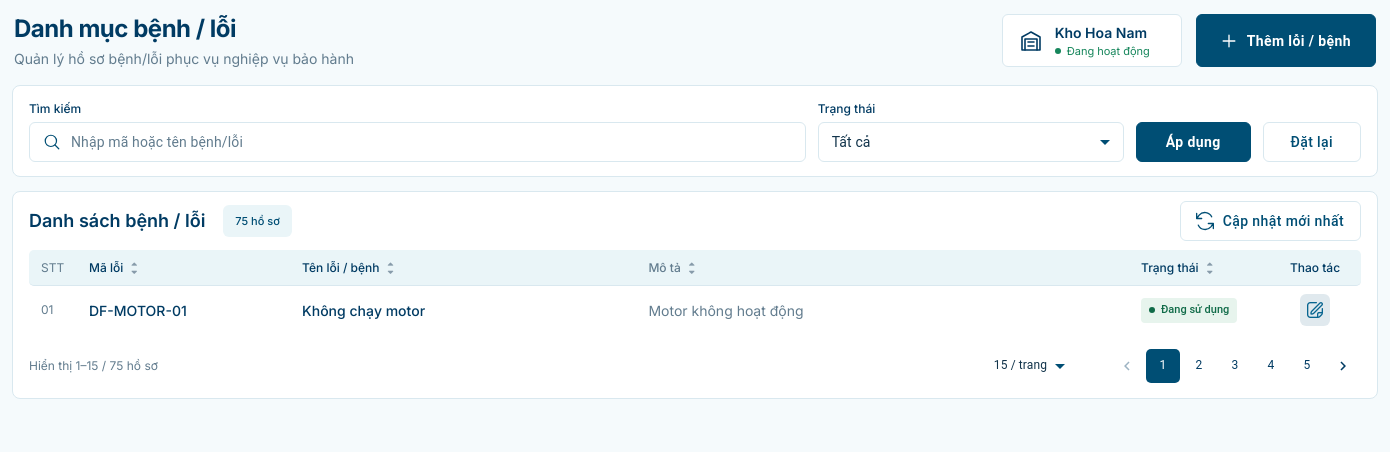
it: DefectMasterScreen interactions › clears the keyword independently and restores all statuses from the menu
The image size is (1390, 452).
Type "motor" into the field named "Tìm lỗi/bệnh".
click(438, 142); type("motor")  # box [71,123,806,160]
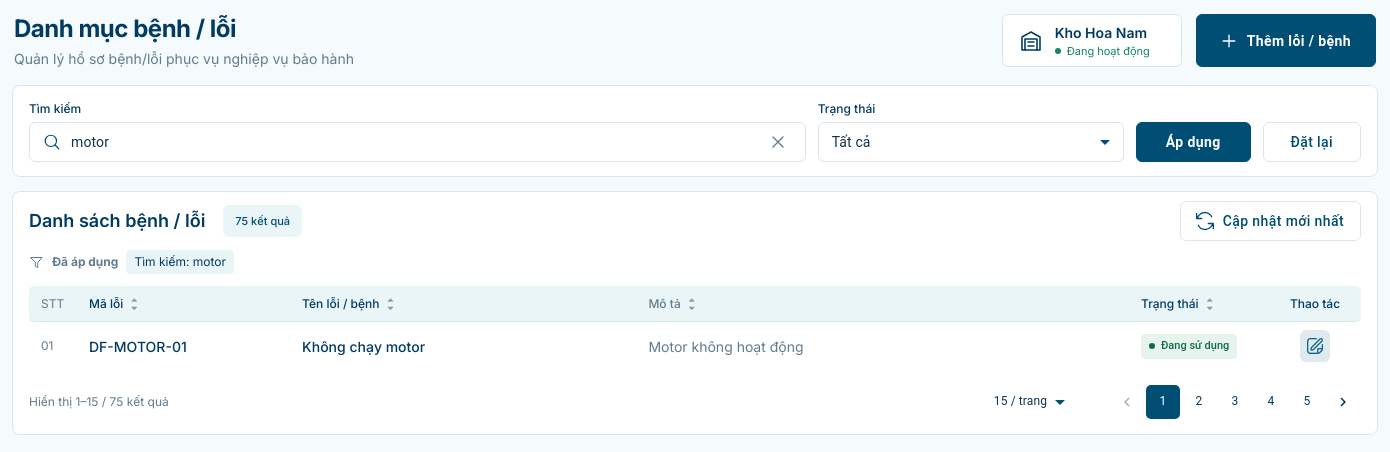
Click the dropdown named "Lọc theo trạng thái".
click(851, 142)  # box [832,134,871,150]
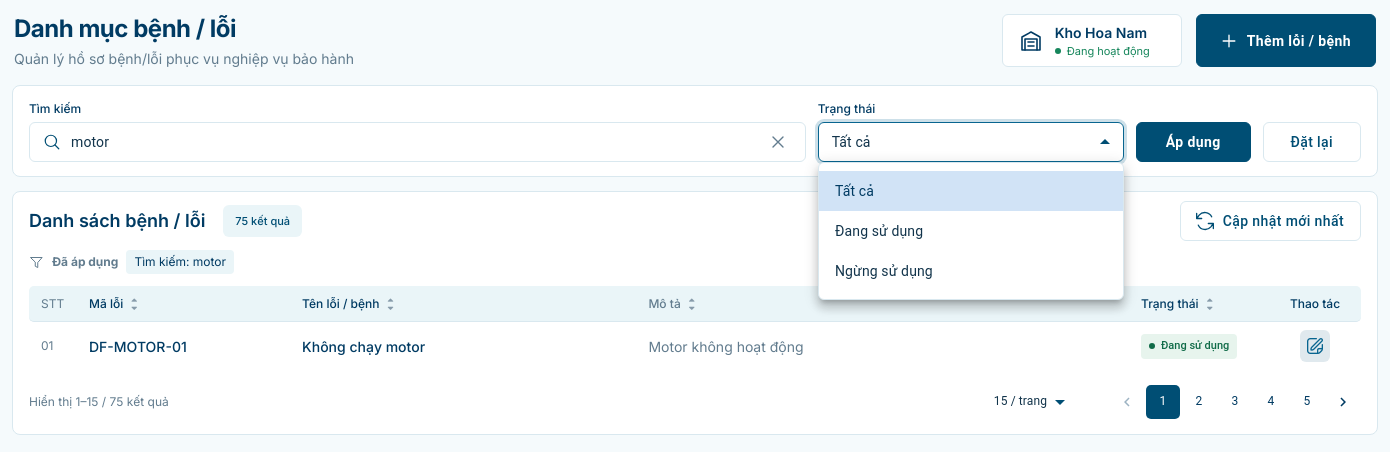
Click the option "Ngừng sử dụng".
click(884, 270)  # box [835,262,933,278]
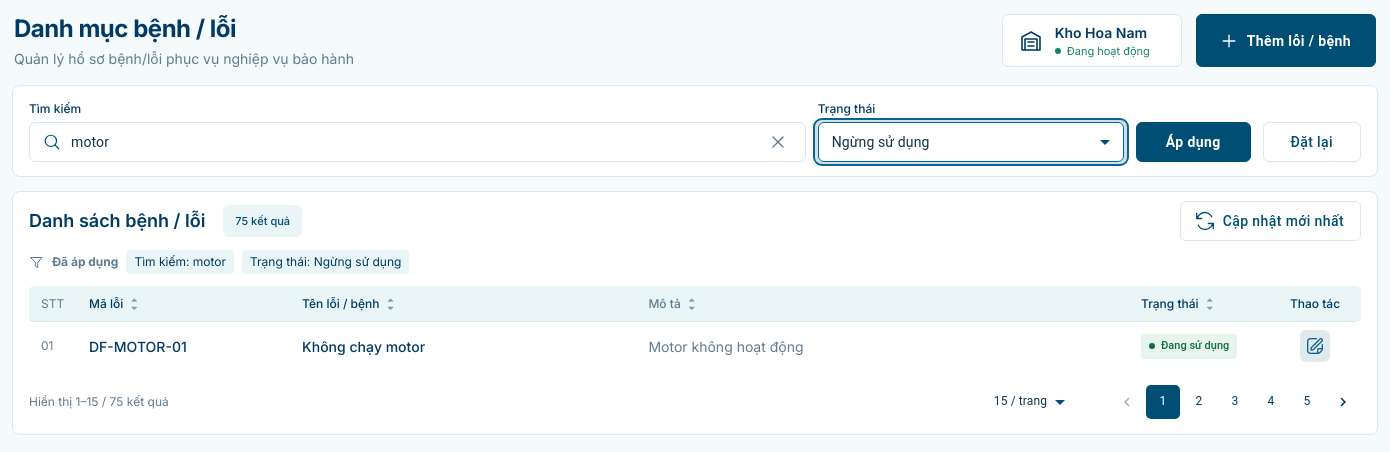
Click the button named "Xóa từ khóa".
click(778, 142)  # box [764,128,792,156]
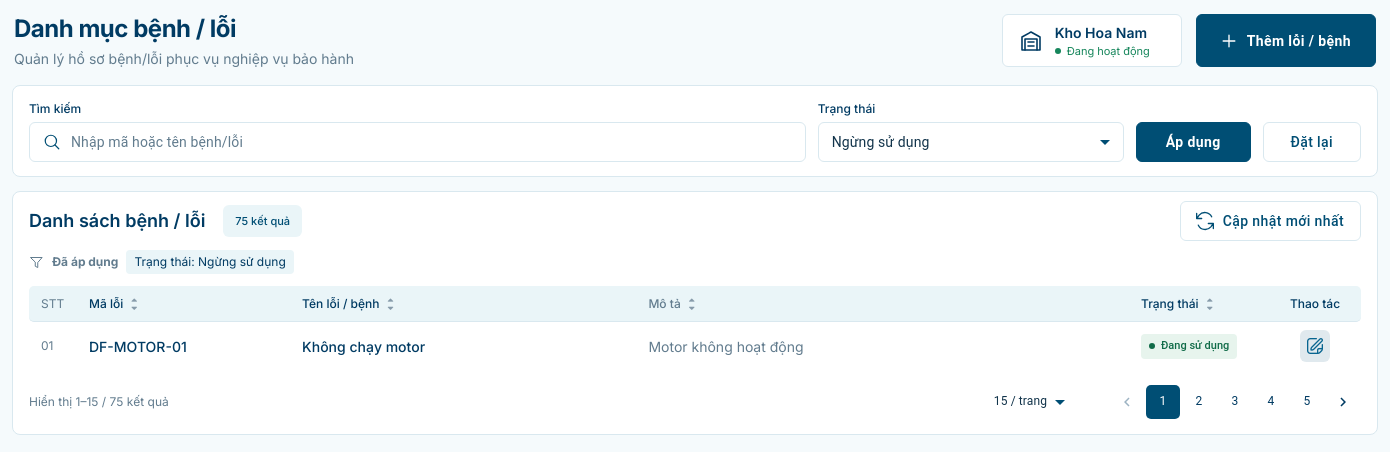
Click the dropdown named "Lọc theo trạng thái".
click(881, 142)  # box [832,134,930,150]
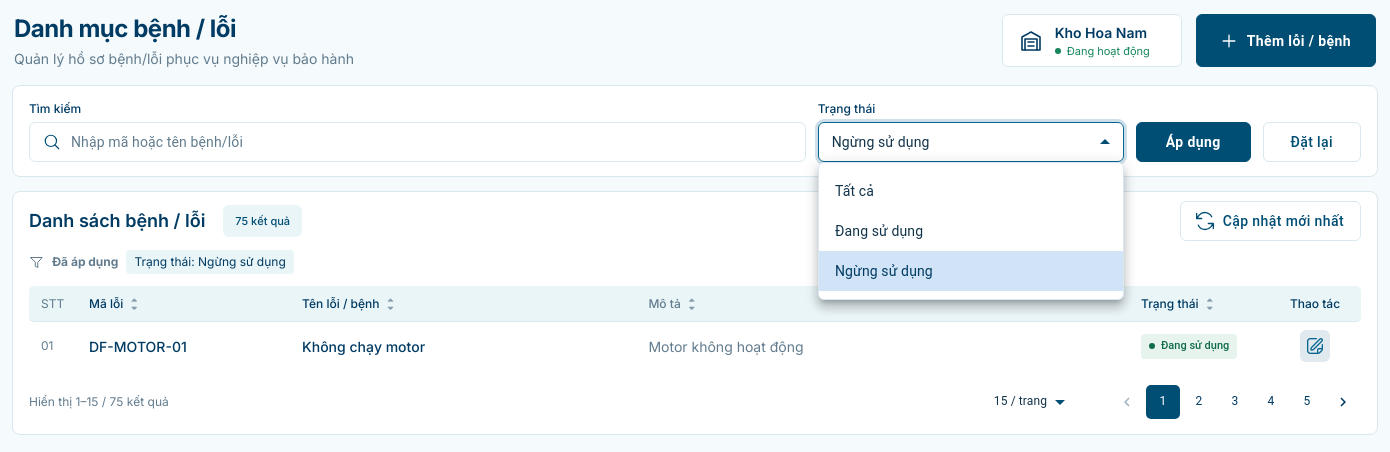
Click the option "Tất cả".
click(854, 190)  # box [835,182,874,198]
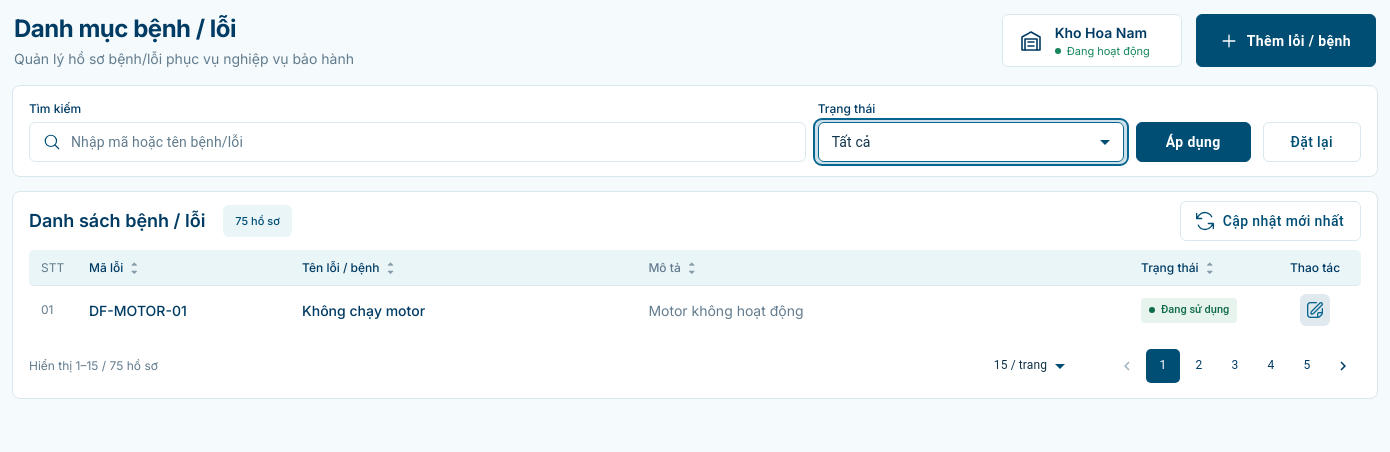
Expected: the text "Đã áp dụng" is gone
